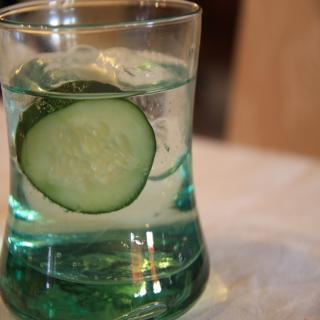Cucumber: (15, 80, 157, 216)
